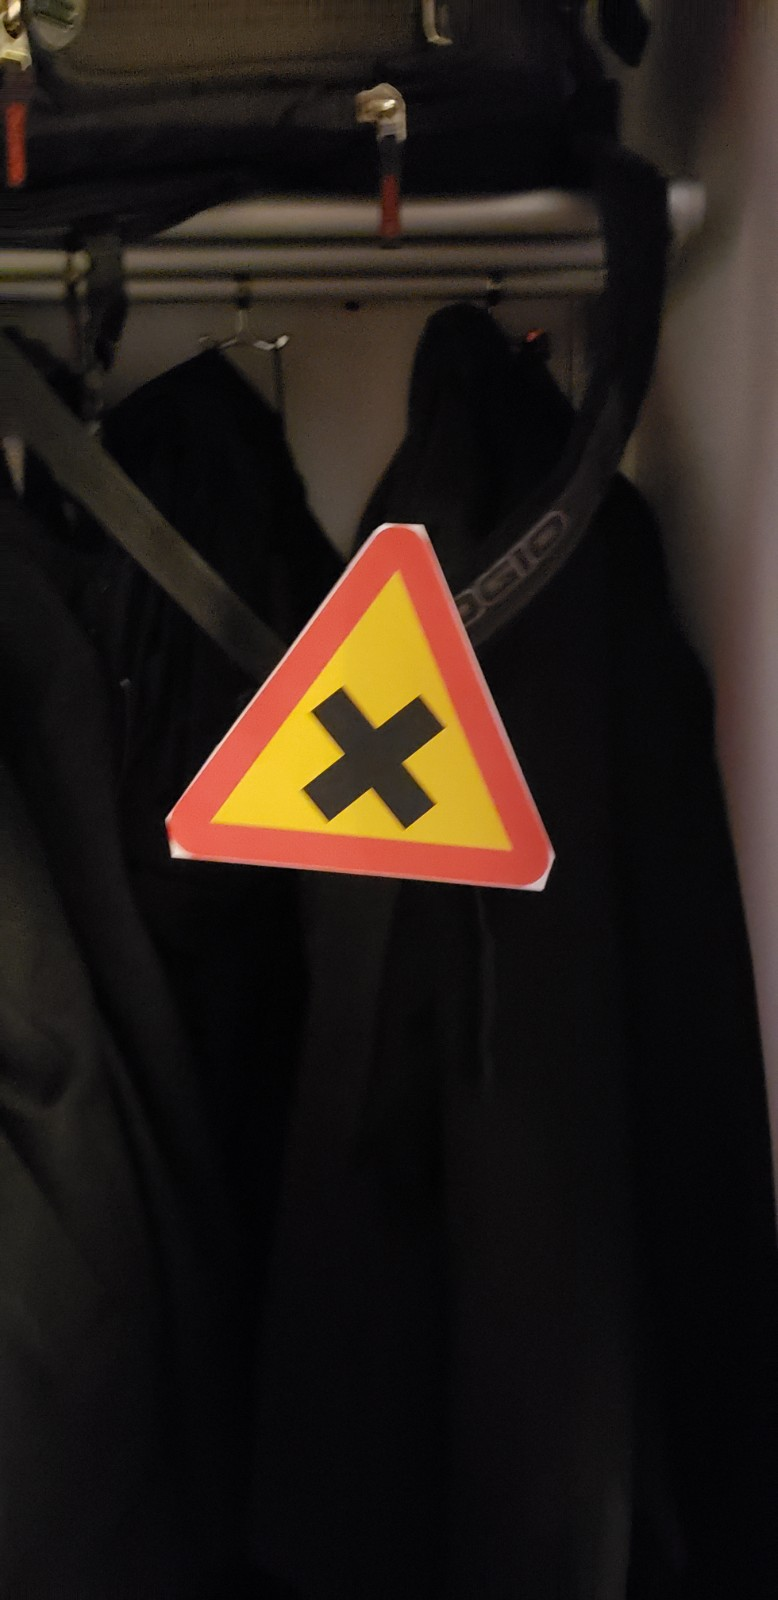junction: (85, 477, 698, 1000)
